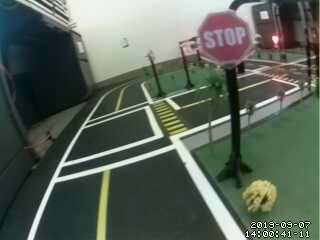Stop_Sign: (192, 10, 260, 64)
